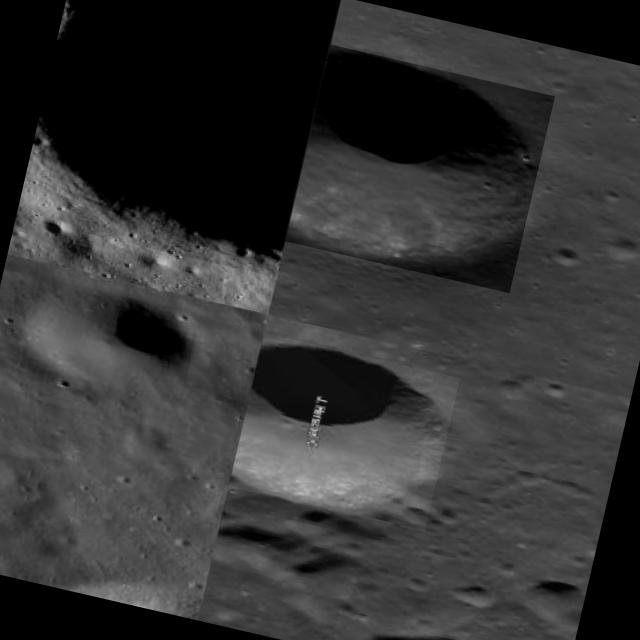crater: (15, 0, 339, 276), (284, 45, 554, 292), (228, 332, 460, 532), (18, 276, 202, 405), (330, 611, 523, 640)
